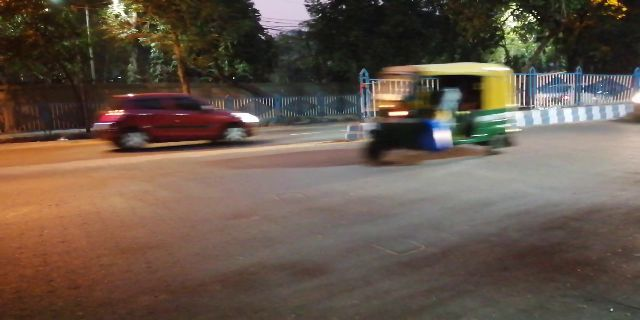Autorickshaw: (359, 61, 527, 162)
Car: (93, 93, 263, 148)
